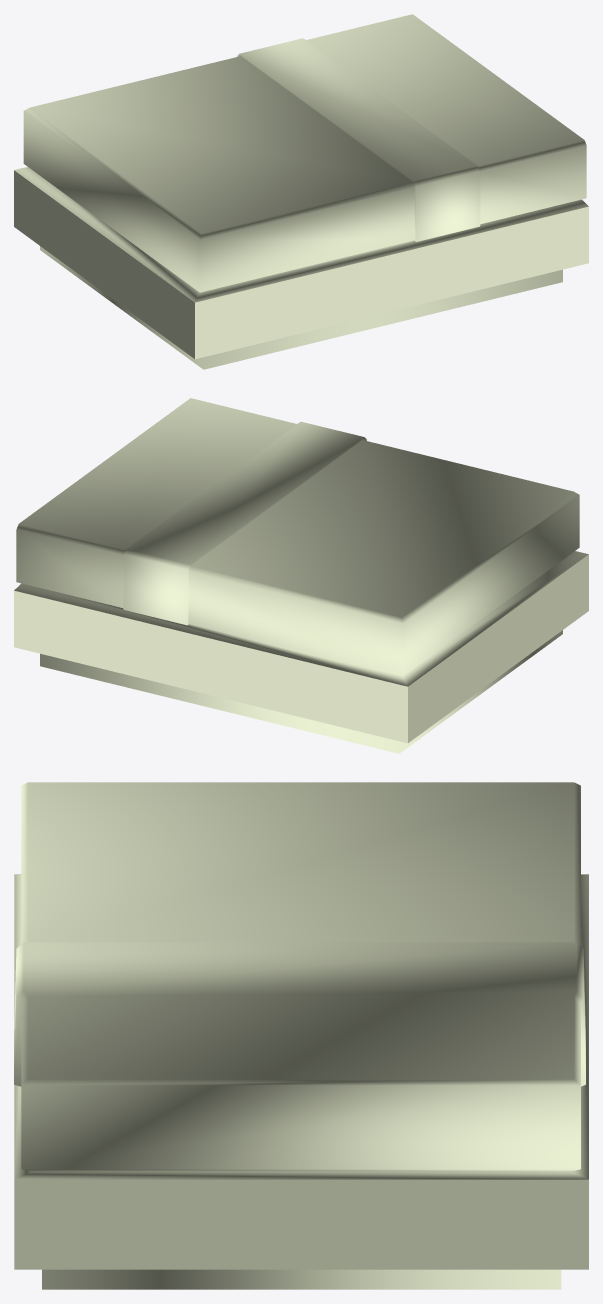
Rendered from cotf_bed.FBX.
3 views of the same model, one above another, from view 1: azimuth 30°, elevation 25°; view 2: azimuth 150°, elevation 25°; view 3: azimuth 270°, elevation 25° (orthographic). The views are drawn at different scales.
Visible parts, largest first — view 1: cotf_bed; view 2: cotf_bed; view 3: cotf_bed.
Boxes of the visible parts, left/top/right/bottom form: cotf_bed: left=14, top=14, right=588, bottom=369; cotf_bed: left=14, top=398, right=588, bottom=753; cotf_bed: left=14, top=782, right=588, bottom=1289.
Size of the model in its own units: 2.61 by 0.9052 by 2.08.
